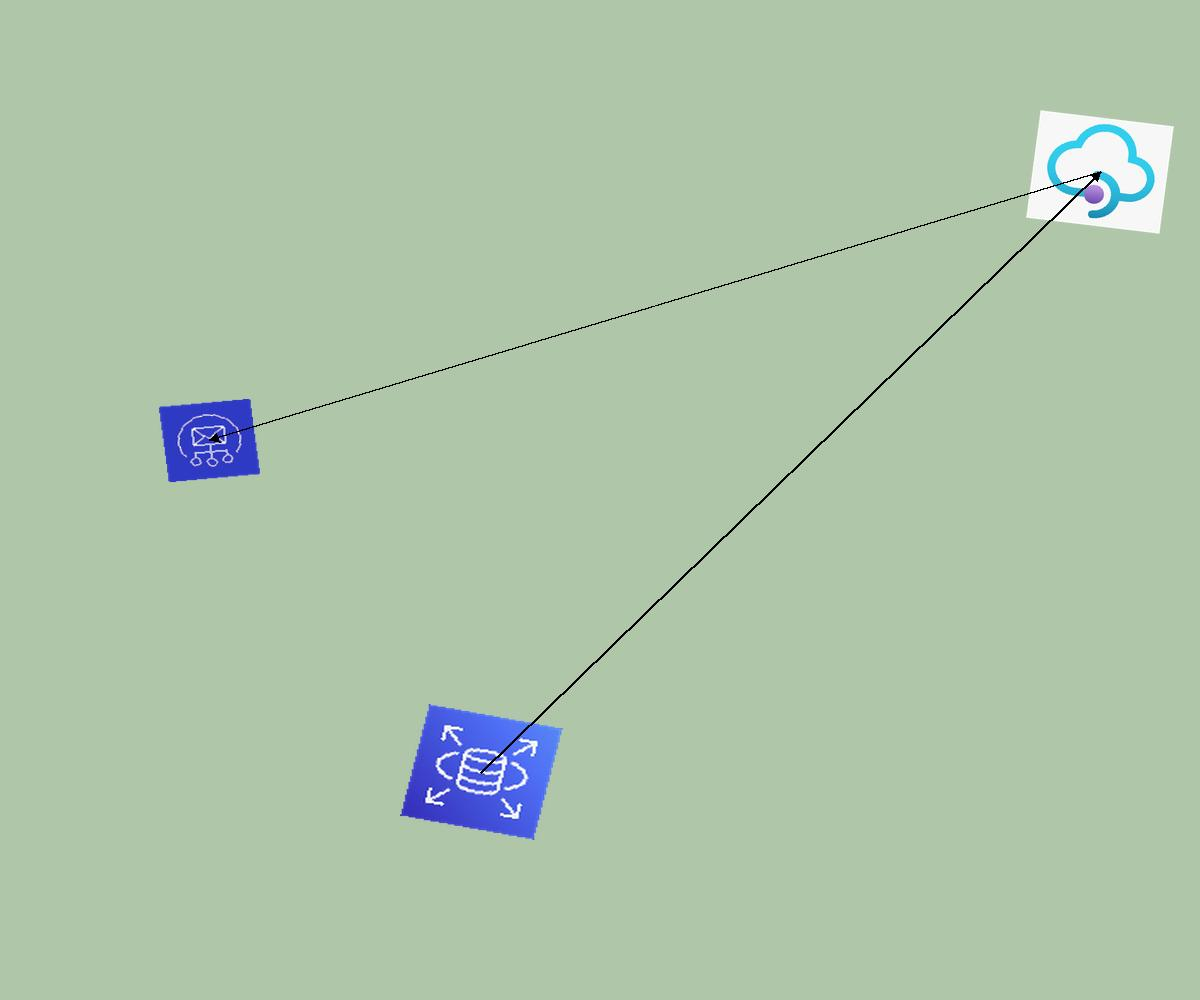AWS-RDS: (400, 704, 563, 840)
AWS-Simple-Email-Service: (158, 398, 261, 483)
Azure_api_gateway: (1026, 110, 1174, 234)
